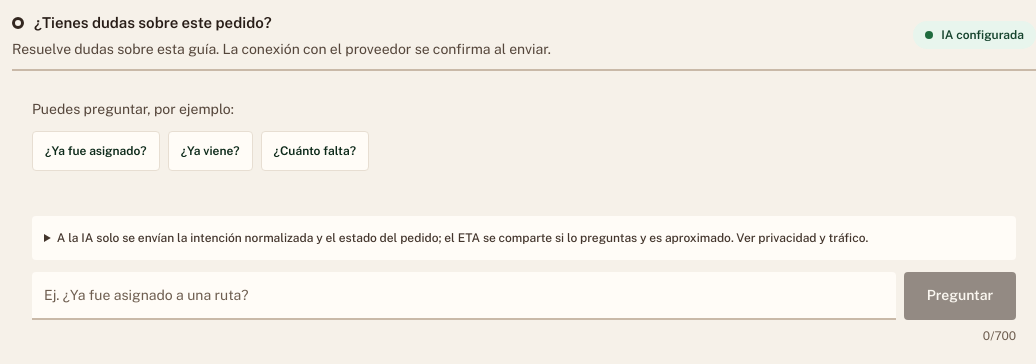
Test: CustomerOrderChat › sends the private tracking guide to the backend and renders its scoped reply
Expected: the text "IA configurada" is shown, x1=913 y1=21 x2=1035 y2=49
Expected: the text "la conexión con el proveedor se confirma al enviar" is shown, x1=12 y1=40 x2=551 y2=56
In the field named "Escribe tu pregunta sobre el pedido": (464, 296) x1=32 y1=272 x2=896 y2=320, type "¿Ya fue asignado?"
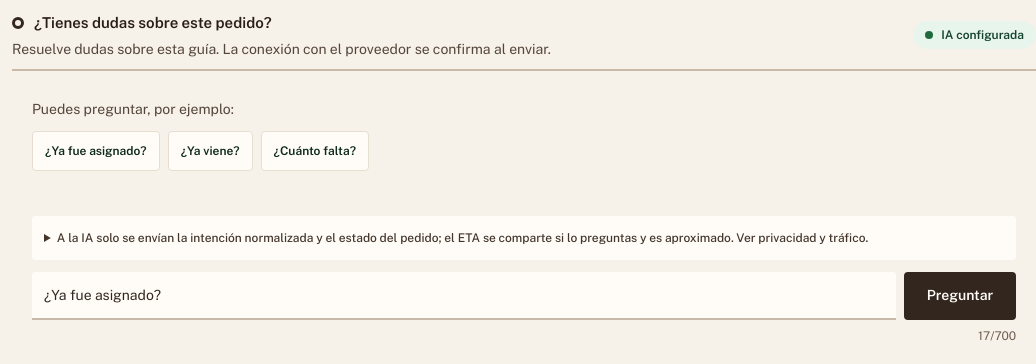
Click the button "Preguntar": (960, 296) x1=904 y1=272 x2=1016 y2=320
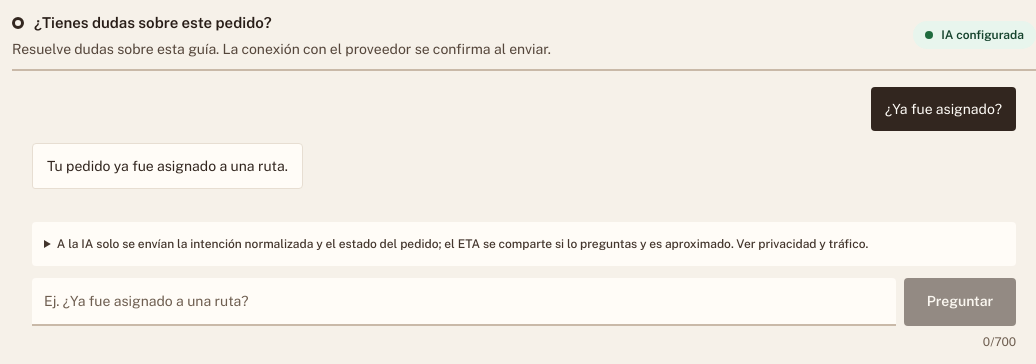
Result: the text "Tu pedido ya fue asignado a una ruta." is shown at x1=32 y1=142 x2=303 y2=188
